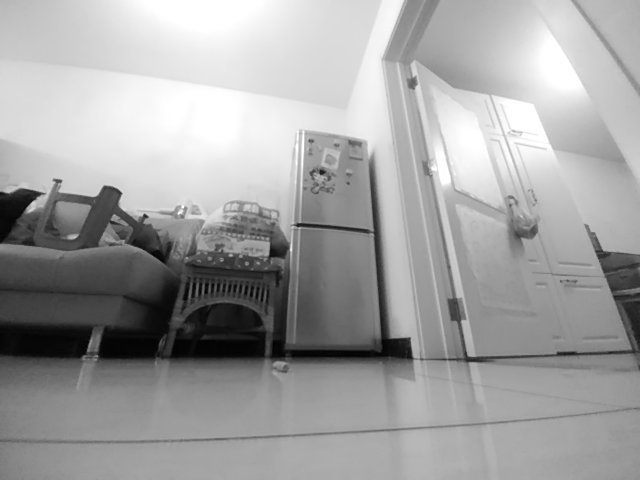pet feces: (271, 360, 288, 373)
